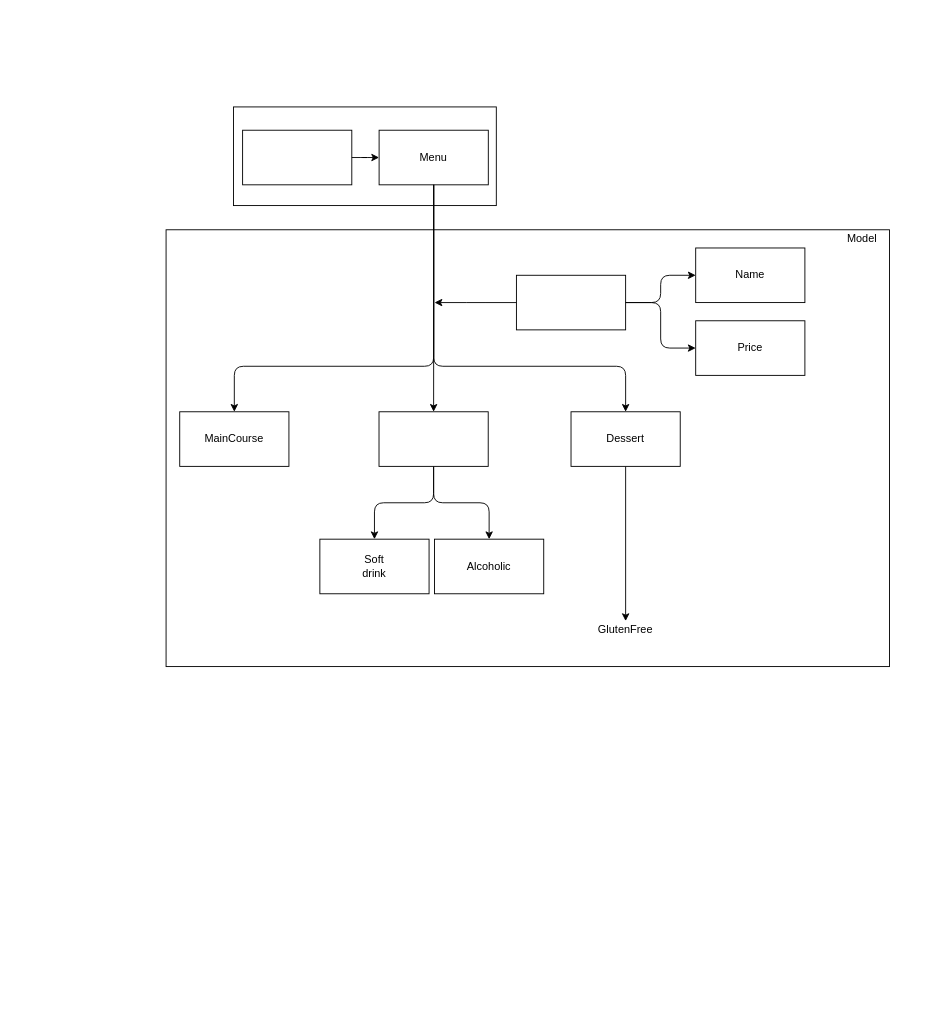
Image size: 950x1018. Some labels were removed from this diagram. The shapes that lost their labels are listed below. From the top down, each one's box as (x1, y1, x2, y2) in pixels, then its label:
(242, 129, 352, 185): Main
(516, 274, 626, 330): MenuItem
(378, 411, 488, 466): Drink
